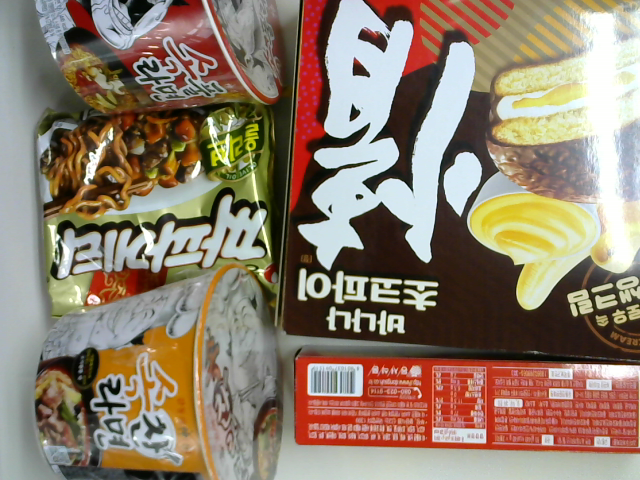Choco_Pie_Banana: (283, 1, 640, 368)
Hejangchan: (26, 261, 287, 480)
Hejangpul: (28, 1, 290, 118)
Olive_Chapaghetti: (26, 98, 284, 328)
Ritz_Cracker: (284, 341, 640, 462)
